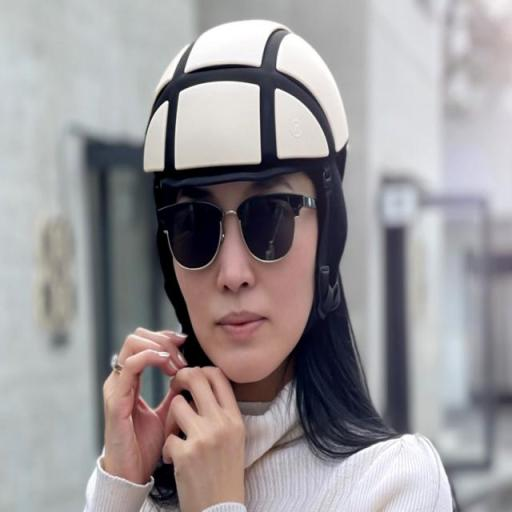Helmet: (129, 42, 360, 180)
